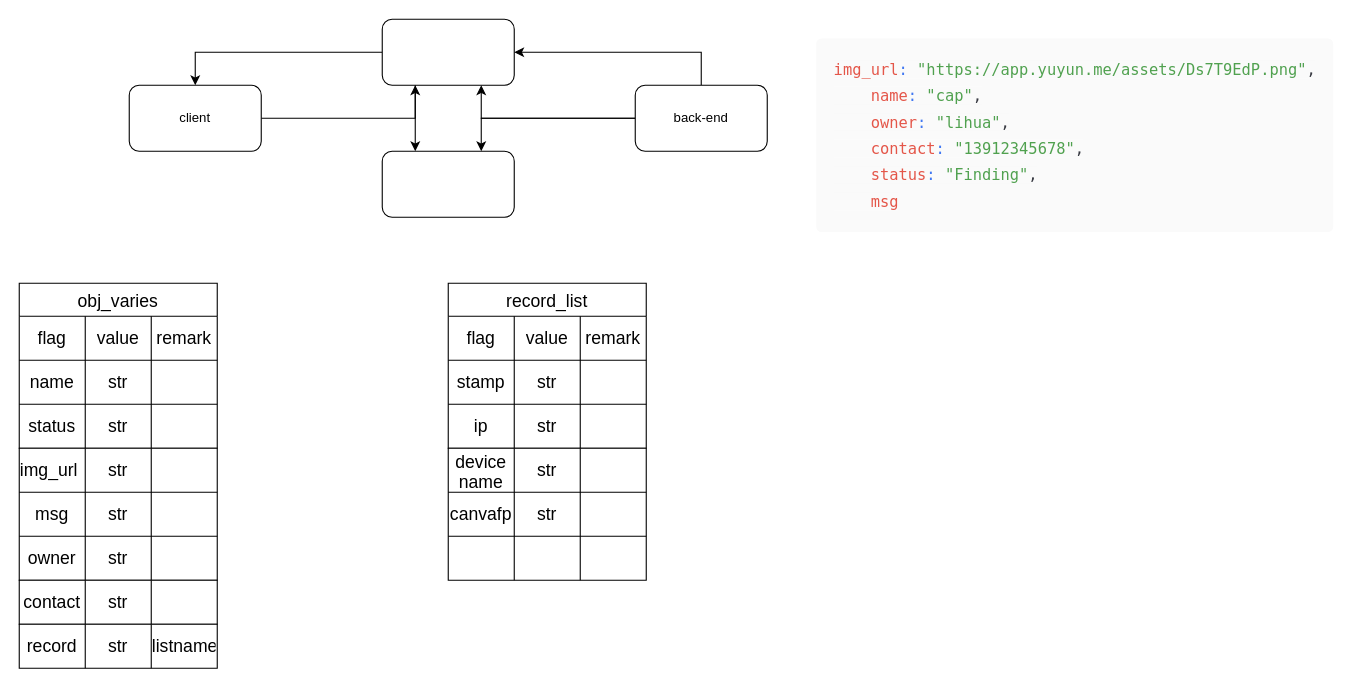
Some shapes in this 1353 by 688 pixel diagram are drawn without their labels. The shapes that lost their labels are listed below. From the top down, each one's centre as x and y in pixels, then its label:
(x=447, y=51): server
(x=447, y=183): database
